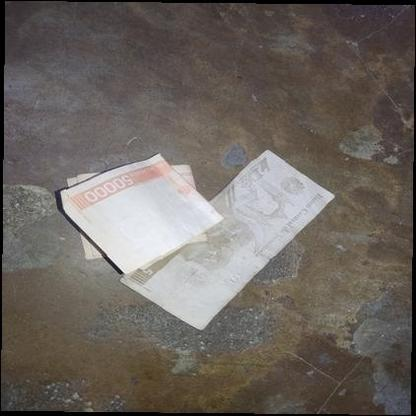five-back-vef: (117, 150, 336, 331)
